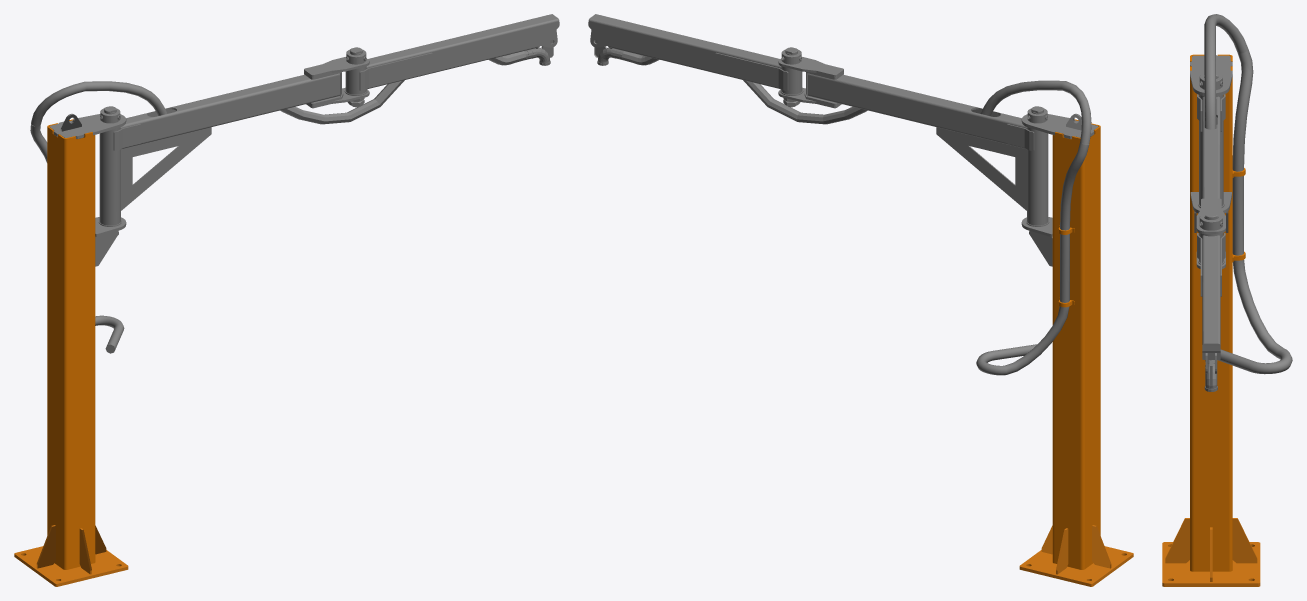
File: aardwolf_all_part_Articulated Jib Crane-Two Arm@p1_-87_0_0@p2_2612_0_2119.fbx
The picture shows the model from 3 angles, left to right: view 1: azimuth 30°, elevation 25°; view 2: azimuth 150°, elevation 25°; view 3: azimuth 270°, elevation 25°; orthographic projection. The views are drawn at different scales.
Parts seen in each view (by area): view 1: Shape101, aardwolf_all_part_obj293, aardwolf_all_part_obj291, aardwolf_all_part_obj296, Object097, aardwolf_all_part_obj294, Object093, aardwolf_all_part_obj263, aardwolf_all_part_obj297, Object094; view 2: Shape101, aardwolf_all_part_obj293, aardwolf_all_part_obj291, aardwolf_all_part_obj296, Object097, aardwolf_all_part_obj294, Object093, aardwolf_all_part_obj263, Object094, aardwolf_all_part_obj297; view 3: Shape101, Object097, aardwolf_all_part_obj291, Object093, aardwolf_all_part_obj293, Object094, aardwolf_all_part_obj296, aardwolf_all_part_obj294, aardwolf_all_part_obj297, Object092.
Boxes of the visible parts, x1,y1,x2,y2 form: Shape101: (47, 130, 95, 569); aardwolf_all_part_obj293: (113, 73, 339, 151); aardwolf_all_part_obj291: (359, 14, 559, 91); aardwolf_all_part_obj296: (95, 106, 211, 266); Object097: (30, 81, 167, 353); aardwolf_all_part_obj294: (304, 47, 369, 108); Object093: (14, 546, 128, 586); aardwolf_all_part_obj263: (280, 51, 526, 124); aardwolf_all_part_obj297: (47, 113, 126, 141); Object094: (36, 525, 106, 574); Shape101: (1052, 130, 1100, 569); aardwolf_all_part_obj293: (808, 73, 1034, 151); aardwolf_all_part_obj291: (588, 14, 788, 91); aardwolf_all_part_obj296: (936, 106, 1052, 266); Object097: (976, 80, 1091, 375); aardwolf_all_part_obj294: (778, 47, 843, 108); Object093: (1019, 546, 1133, 586); aardwolf_all_part_obj263: (622, 51, 867, 124); Object094: (1041, 525, 1111, 574); aardwolf_all_part_obj297: (1021, 113, 1100, 141); Shape101: (1190, 77, 1232, 571); Object097: (1204, 14, 1292, 374); aardwolf_all_part_obj291: (1197, 233, 1225, 373); Object093: (1162, 542, 1260, 586); aardwolf_all_part_obj293: (1197, 94, 1225, 198); Object094: (1165, 518, 1257, 581); aardwolf_all_part_obj296: (1190, 71, 1231, 232); aardwolf_all_part_obj294: (1196, 198, 1225, 268); aardwolf_all_part_obj297: (1190, 54, 1232, 96); Object092: (1204, 360, 1217, 391).
Size of the model in its own units: 2844 by 2496 by 532.
